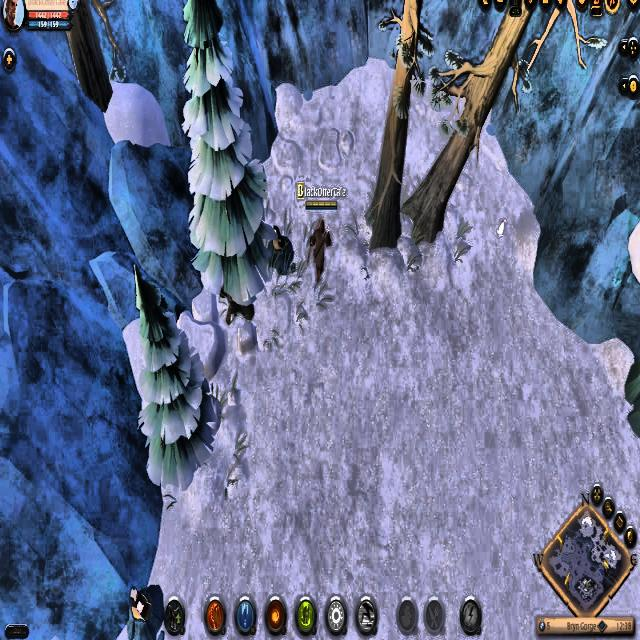copperore: (121, 578, 168, 636), (263, 220, 296, 279)
